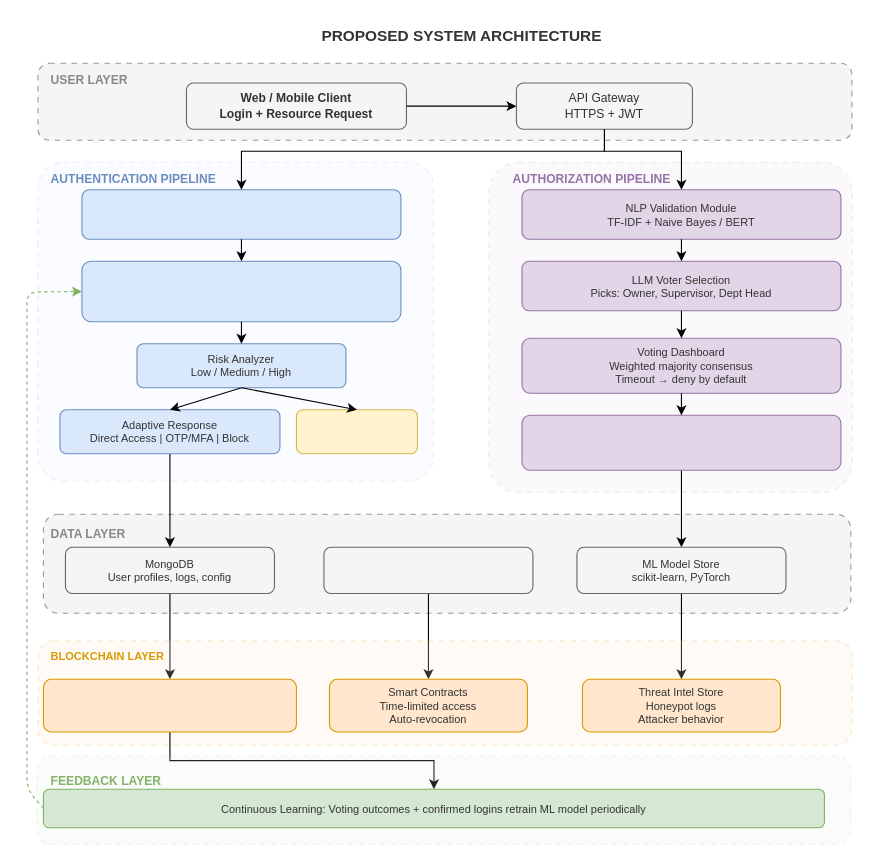
Some shapes in this 871 by 864 pixel diagram are drawn without their labels. The shapes that lost their labels are listed below. From the top down, each one's box as (x1, y1, x2, y2) in pixels, then its label:
(81, 189, 401, 239): Feature Extraction Engine IP, Device, Location, Time, Behavior
(81, 260, 401, 322): ML Risk Scoring Engine Logistic Regression + Random Forest
(295, 409, 417, 454): Honeypot Module Fake env for stolen creds
(521, 414, 841, 470): Access Control Engine Smart Contracts Scope + Duration + Auto-revoke
(323, 546, 533, 593): Keycloak RBAC baseline, OAuth 2.0
(42, 678, 296, 732): Permissioned Blockchain SHA-256 Hash Chain Immutable event logging
